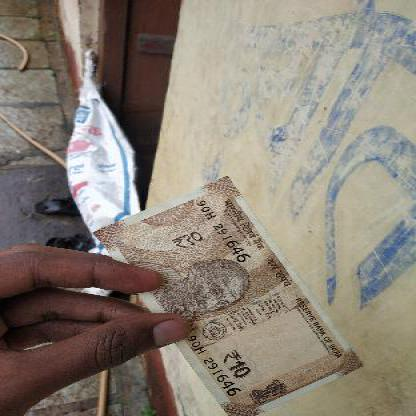New10Front: (92, 175, 351, 396)
